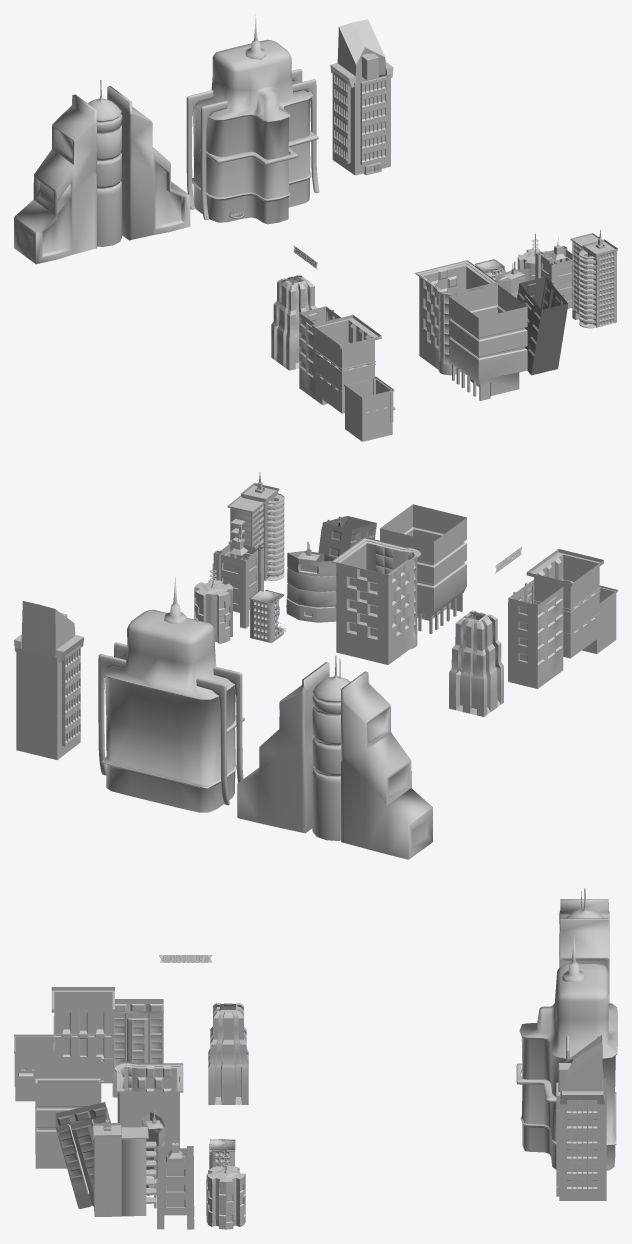
The model's file is ClaudioAssetEFase.fbx.
3 views of the same model, one above another, from view 1: azimuth 30°, elevation 25°; view 2: azimuth 150°, elevation 25°; view 3: azimuth 270°, elevation 25° (orthographic). The views are drawn at different scales.
Visible parts, largest first — view 1: Predio.004, Cylinder.001, Predio.002, Predio4, Predio2, Predio5, PredioEsquerda, Predio3.001, PredioFuturista, Predio1, Predio3, Predio.001 (+1 smaller); view 2: Predio.004, Cylinder.001, Predio5, Predio.002, Predio4, Predio3, PredioFuturista, Predio2, PredioEsquerda, PredioFuturista7, Predio.001, PredioFuturista6 (+3 smaller); view 3: Predio.004, Predio.002, PredioEsquerda, Predio4, Predio2, Predio5, PredioFuturista, Predio3, Cylinder.001, Predio3.001, Predio.001, PredioFuturista6 (+3 smaller).
Part boxes in pixels (x1=…): Predio.004: x1=186, y1=15, x2=319, y2=224; Cylinder.001: x1=14, y1=80, x2=190, y2=264; Predio.002: x1=330, y1=19, x2=393, y2=175; Predio4: x1=449, y1=284, x2=527, y2=400; Predio2: x1=312, y1=315, x2=381, y2=413; Predio5: x1=415, y1=260, x2=497, y2=375; PredioEsquerda: x1=570, y1=229, x2=617, y2=328; Predio3.001: x1=517, y1=277, x2=567, y2=375; PredioFuturista: x1=271, y1=274, x2=316, y2=370; Predio1: x1=344, y1=376, x2=395, y2=441; Predio3: x1=299, y1=306, x2=348, y2=404; Predio.001: x1=535, y1=237, x2=579, y2=319; Predio.004: x1=98, y1=576, x2=244, y2=812; Cylinder.001: x1=237, y1=655, x2=432, y2=859; Predio5: x1=331, y1=537, x2=421, y2=664; Predio.002: x1=14, y1=601, x2=83, y2=760; Predio4: x1=380, y1=504, x2=466, y2=633; Predio3: x1=508, y1=579, x2=563, y2=688; PredioFuturista: x1=449, y1=610, x2=503, y2=716; Predio2: x1=526, y1=549, x2=603, y2=658; PredioEsquerda: x1=227, y1=472, x2=284, y2=580; PredioFuturista7: x1=286, y1=541, x2=336, y2=622; Predio.001: x1=213, y1=530, x2=263, y2=628; PredioFuturista6: x1=194, y1=563, x2=232, y2=643; Predio.004: x1=516, y1=935, x2=617, y2=1170; Predio.002: x1=556, y1=1035, x2=606, y2=1200; PredioEsquerda: x1=93, y1=1108, x2=156, y2=1216; Predio4: x1=35, y1=1057, x2=101, y2=1168; Predio2: x1=51, y1=987, x2=114, y2=1083; Predio5: x1=114, y1=1062, x2=183, y2=1148; PredioFuturista: x1=208, y1=1003, x2=248, y2=1104; Predio3: x1=112, y1=999, x2=163, y2=1097; Cylinder.001: x1=559, y1=888, x2=609, y2=1003; Predio3.001: x1=55, y1=1102, x2=110, y2=1208; Predio.001: x1=157, y1=1134, x2=194, y2=1229; PredioFuturista6: x1=206, y1=1148, x2=245, y2=1229.
Bounding box in the file's own units: 23336 × 12623 × 29595.
